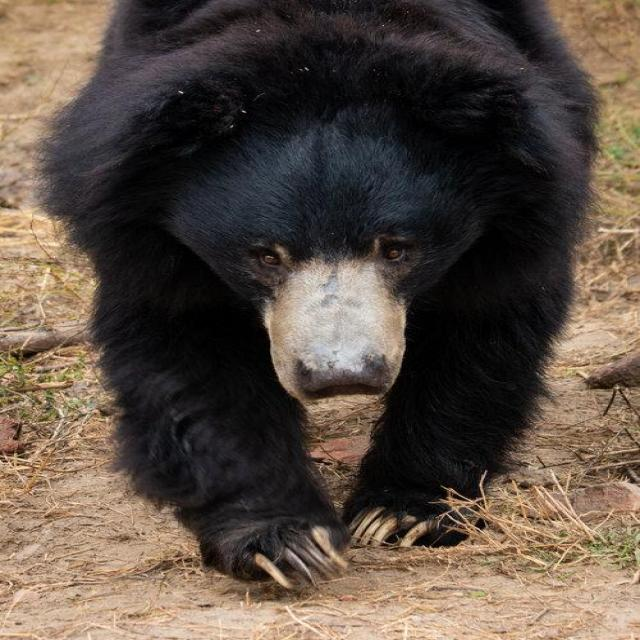Bear: (35, 0, 600, 594)
